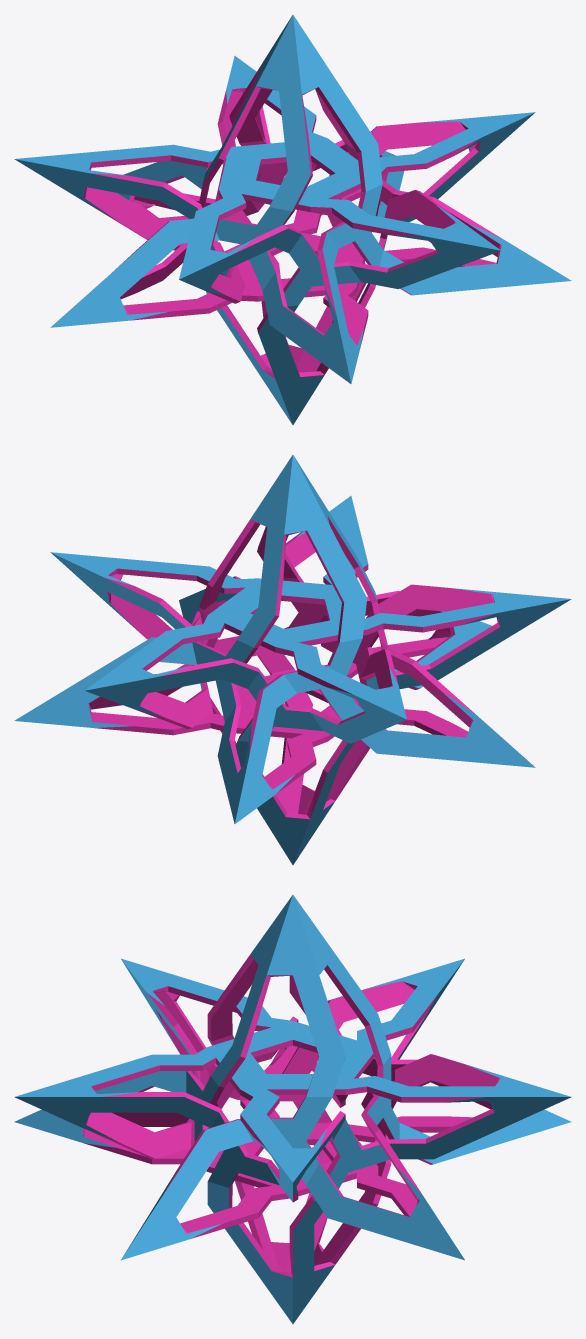
Rendered from AntiprismicPolyknot5.glb.
The picture shows the model from 3 angles, top to bottom: view 1: azimuth 30°, elevation 25°; view 2: azimuth 150°, elevation 25°; view 3: azimuth 270°, elevation 25°; orthographic projection. The views are drawn at different scales.
Visible parts, largest first — view 1: ESCHER_BBBa_AP5; view 2: ESCHER_BBBa_AP5; view 3: ESCHER_BBBa_AP5.
Part boxes in pixels (x1,y1,x2,y2): ESCHER_BBBa_AP5: [14, 15, 571, 424]; ESCHER_BBBa_AP5: [14, 455, 571, 864]; ESCHER_BBBa_AP5: [14, 895, 571, 1323].
Size of the model in its own units: 185 by 150 by 176.
